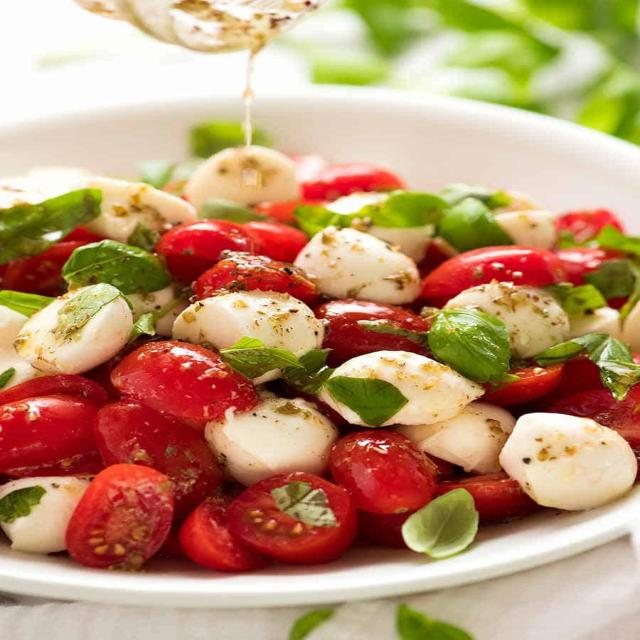Tomato: (70, 466, 177, 567), (228, 468, 349, 546)
